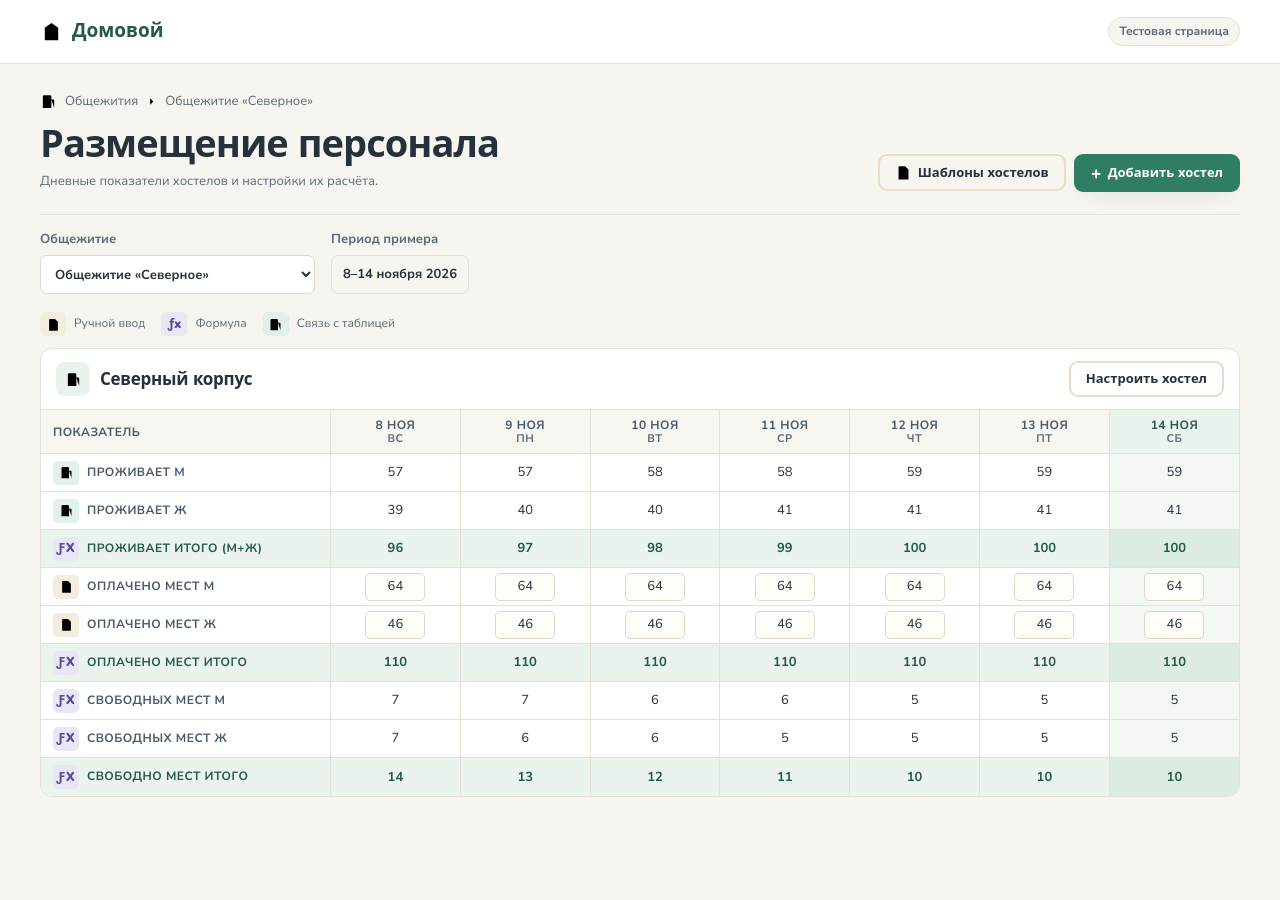
Test: сохраняет ссылки при переименовании и пересчитывает формулы после ручного ввода
Click the button "Настроить хостел".
click(1146, 379)  # box [1069,361,1224,397]
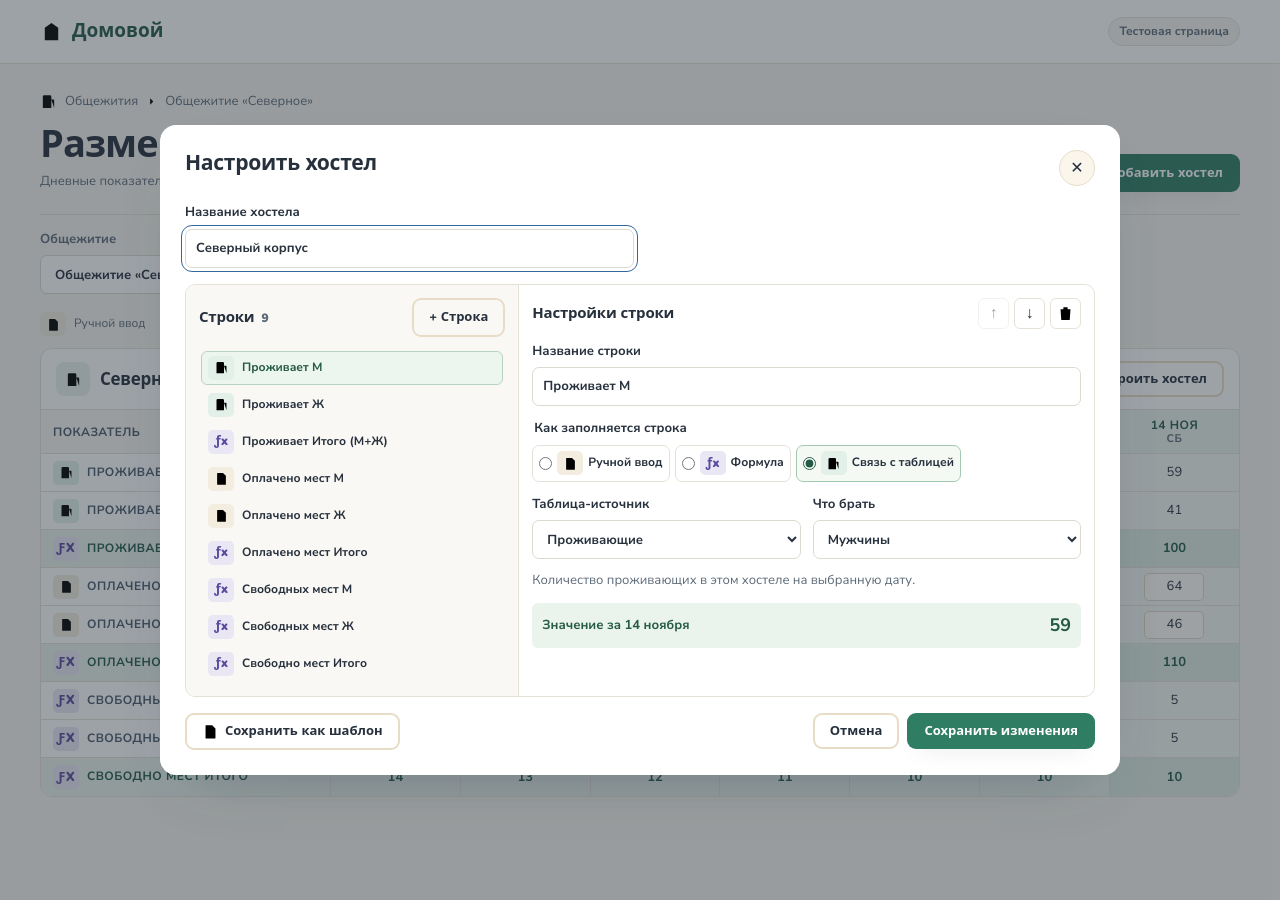
Replace the text in the field labelled "Название строки" with "Мужчин проживает" at x=807, y=387, box [532,367,1081,406]
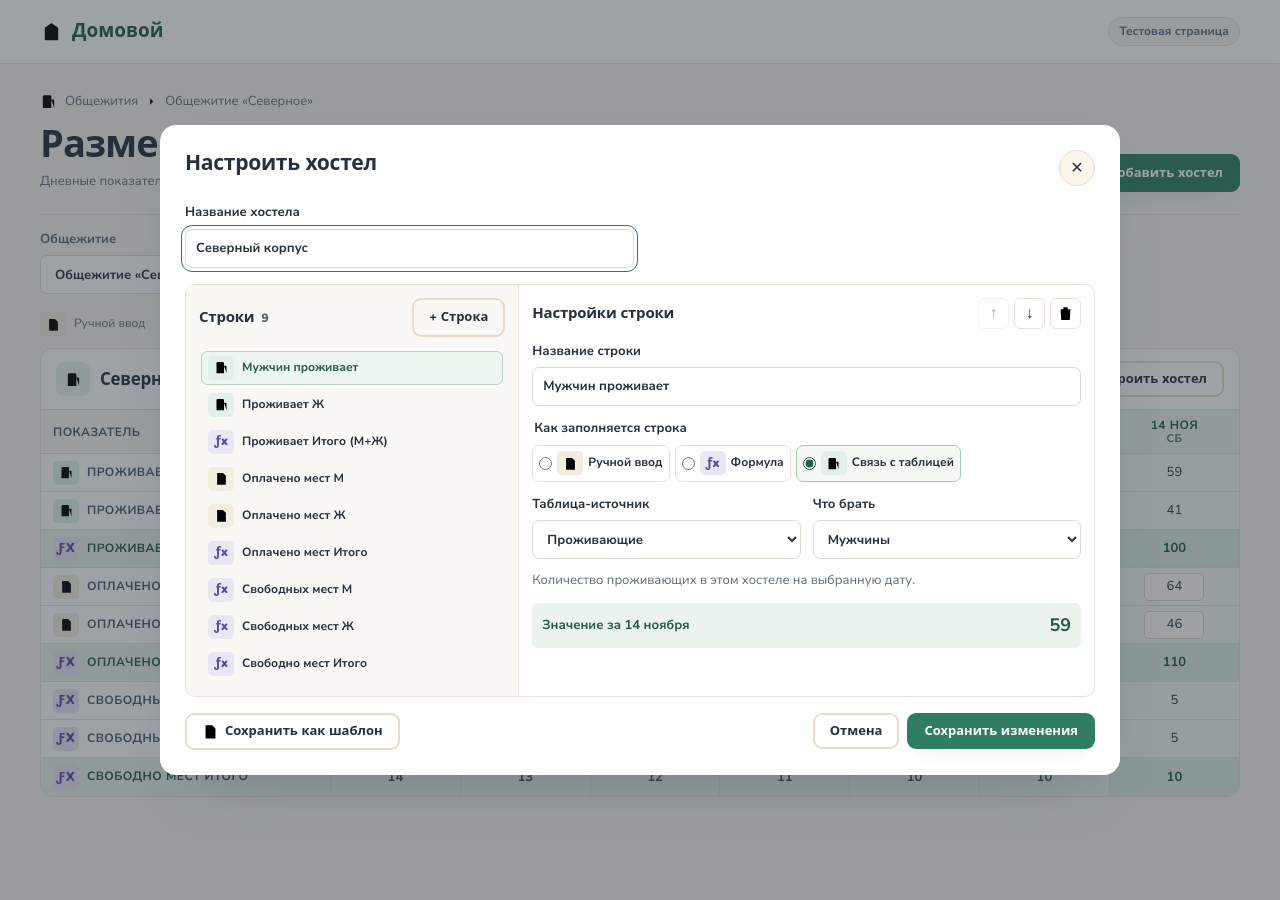
Click the button "ƒx Проживает Итого (М+Ж)".
click(352, 442)  # box [201,425,503,459]
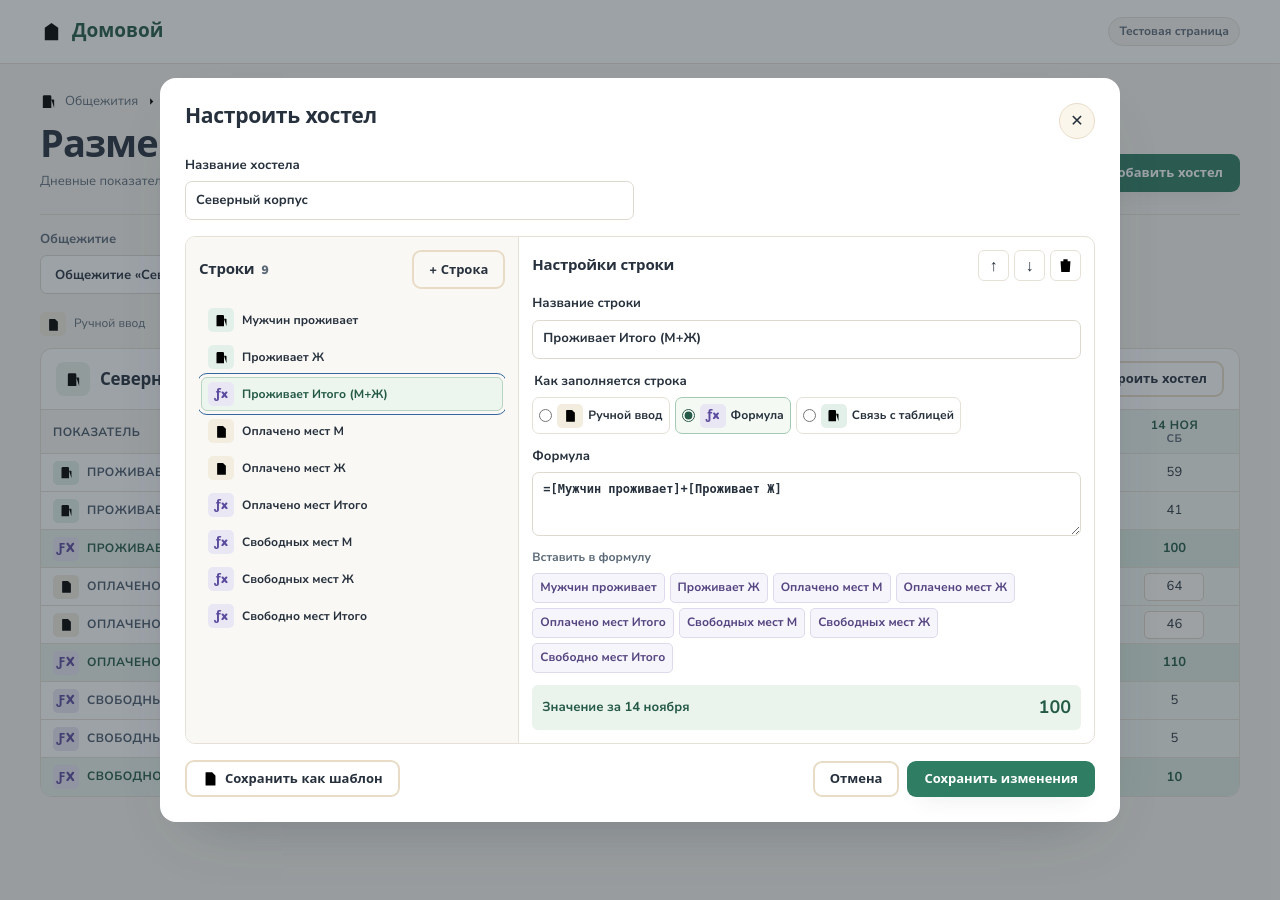
Expected: the text box labelled "Формула" holds "=[Мужчин проживает]+[Проживает Ж]", [532,472,1081,536]
Click the button "Сохранить изменения".
click(1001, 779)  # box [907,761,1095,797]
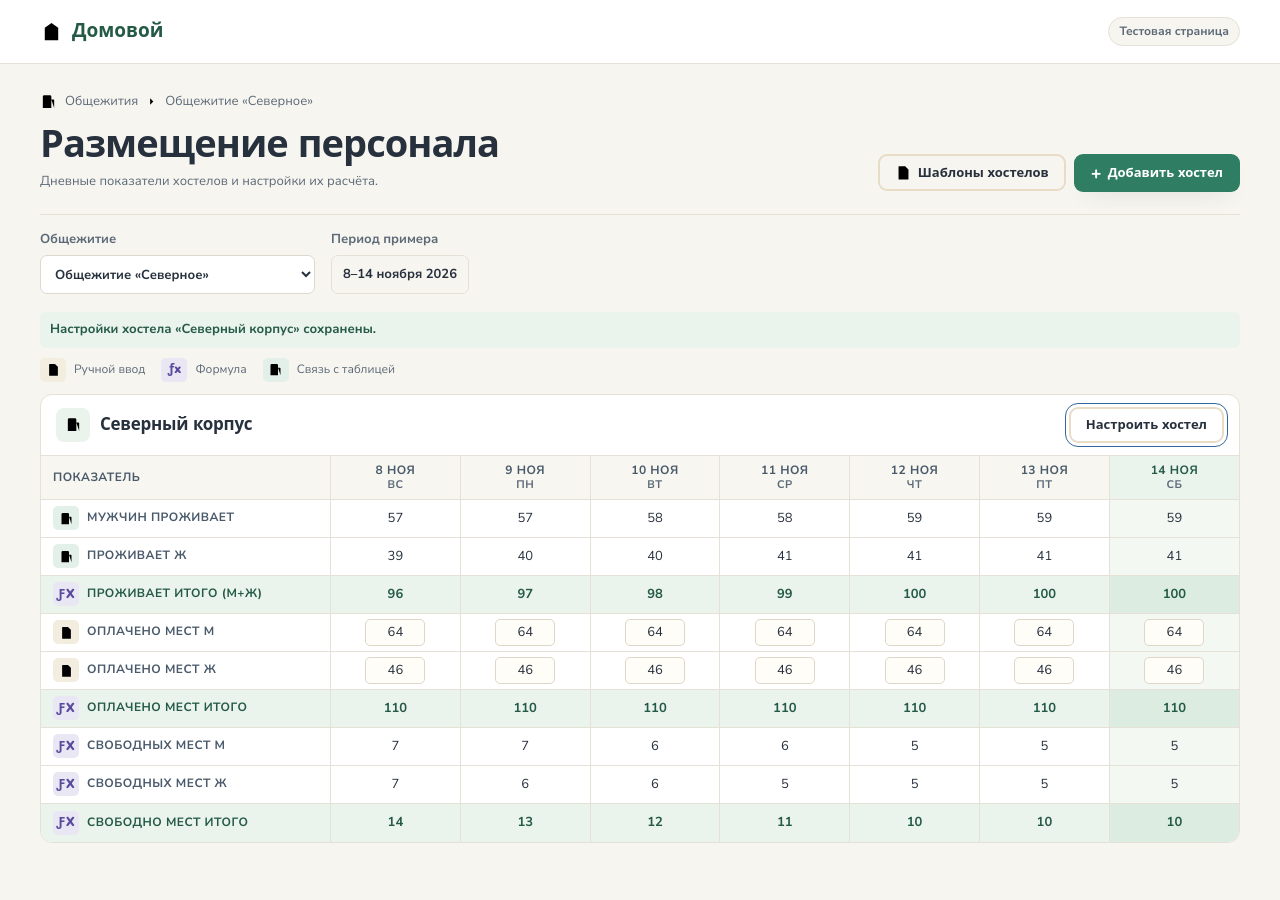
Replace the text in the field named "Оплачено мест М, 14 ноября" with "65" at x=1174, y=632, box [1144,618,1204,646]
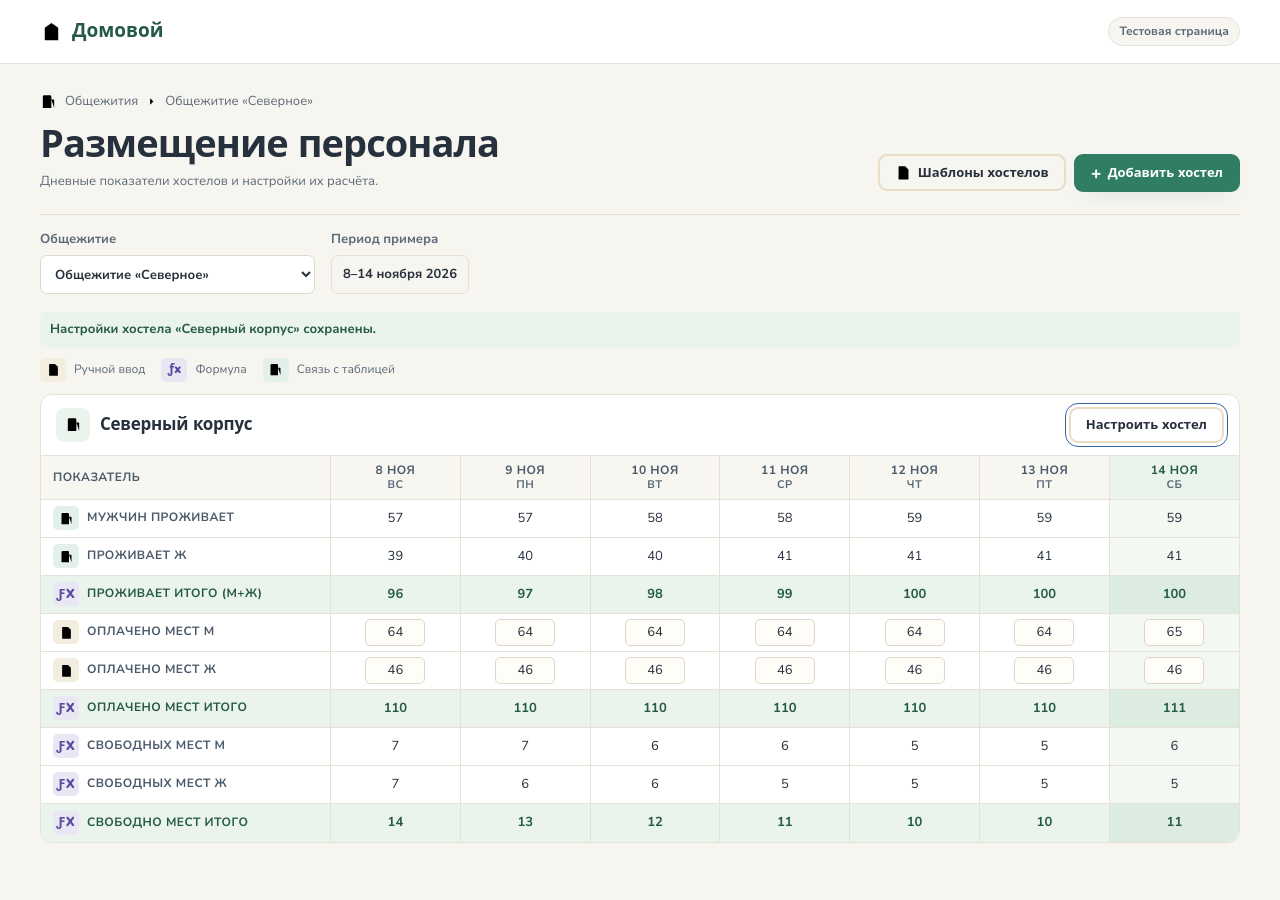
Expected: the 2nd cell "11" is shown, [1110,804,1239,842]
